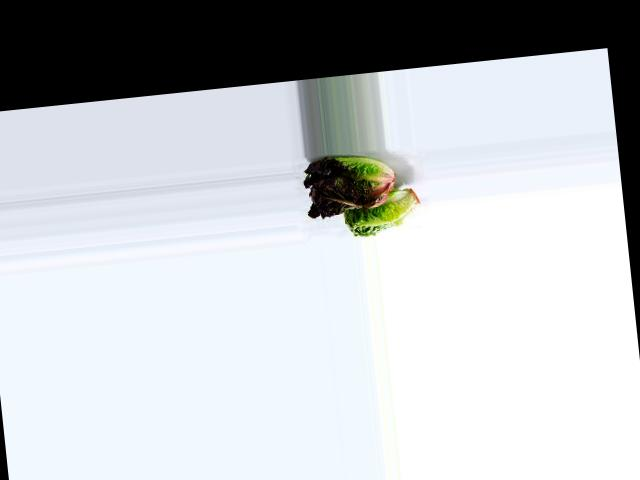lettuce: (340, 184, 425, 239)
